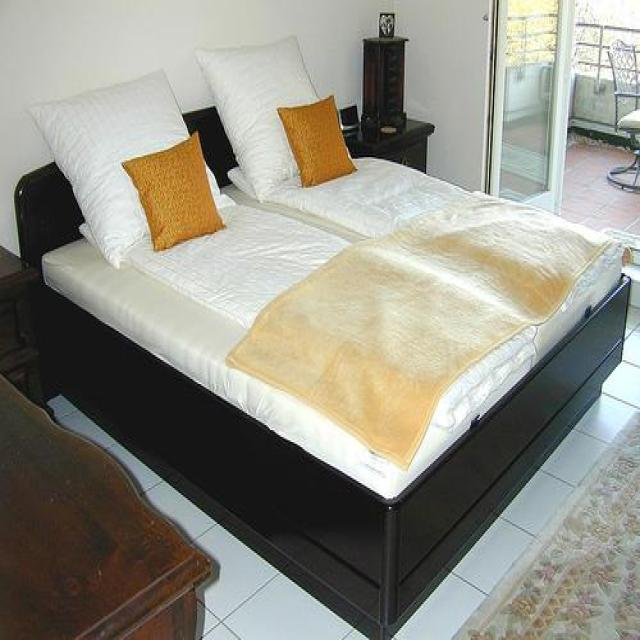bed: (0, 34, 632, 640)
chair: (605, 37, 639, 193)
